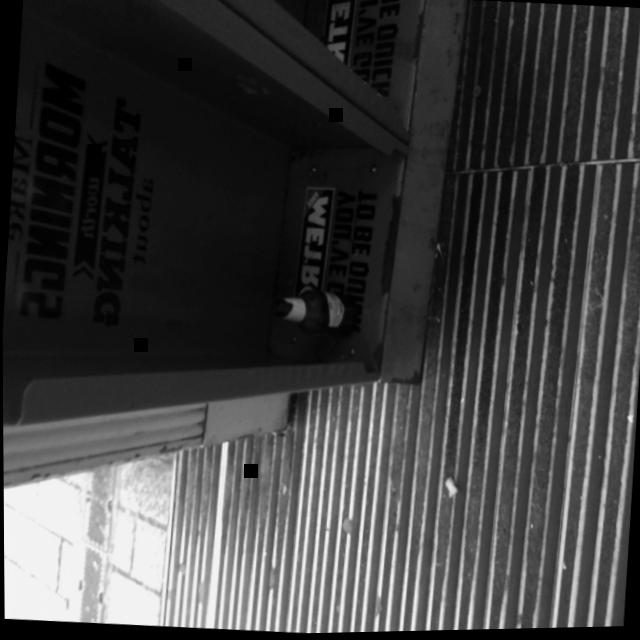Glass bottle: (269, 291, 355, 339)
Unlabeled litter: (441, 478, 456, 500)
